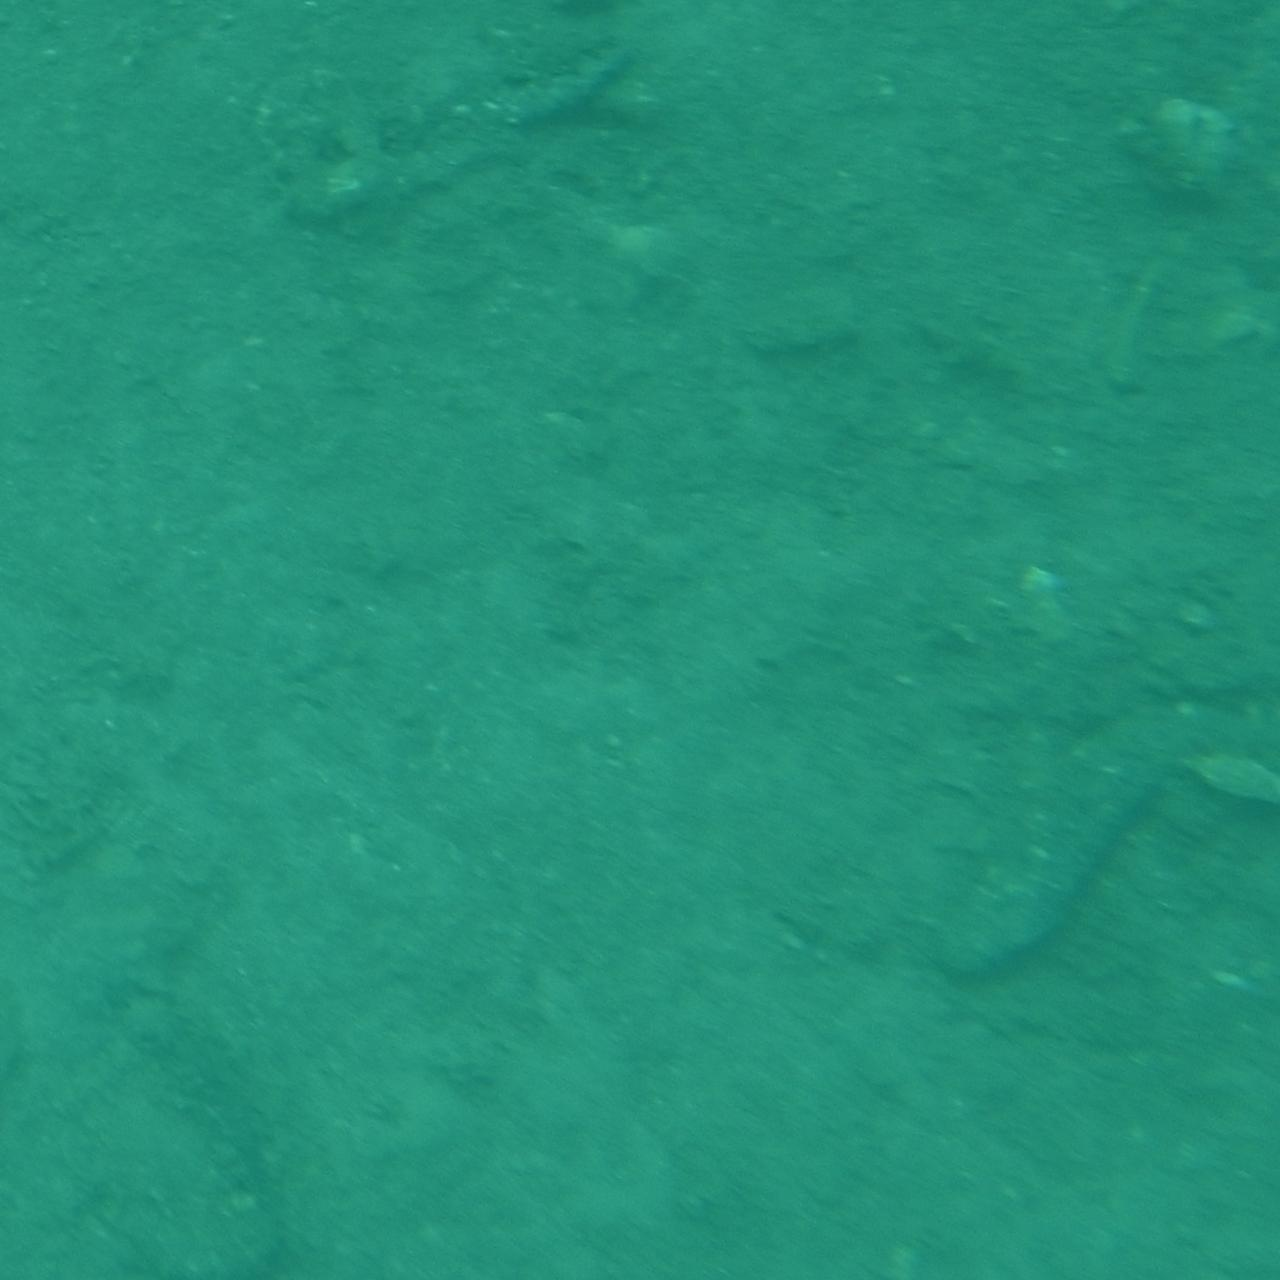Holothuria tubulosa: (271, 4, 639, 258), (947, 699, 1231, 1003), (79, 976, 304, 1280)
